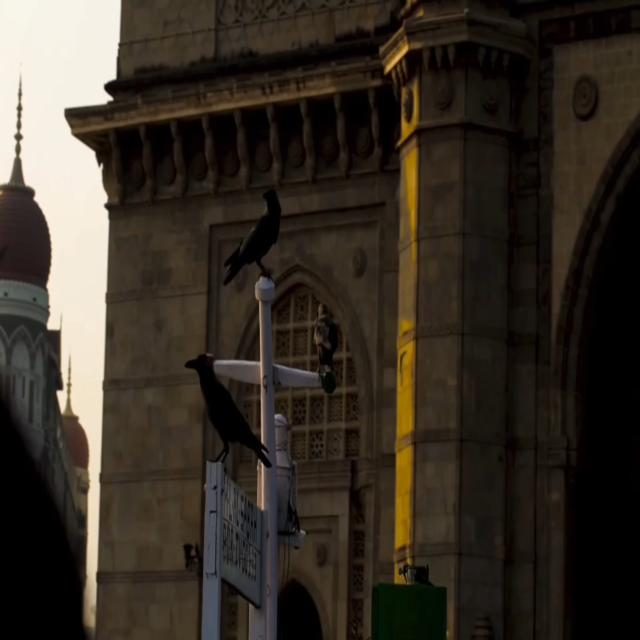bird: (172, 337, 277, 493), (213, 170, 293, 316), (305, 288, 349, 403)
